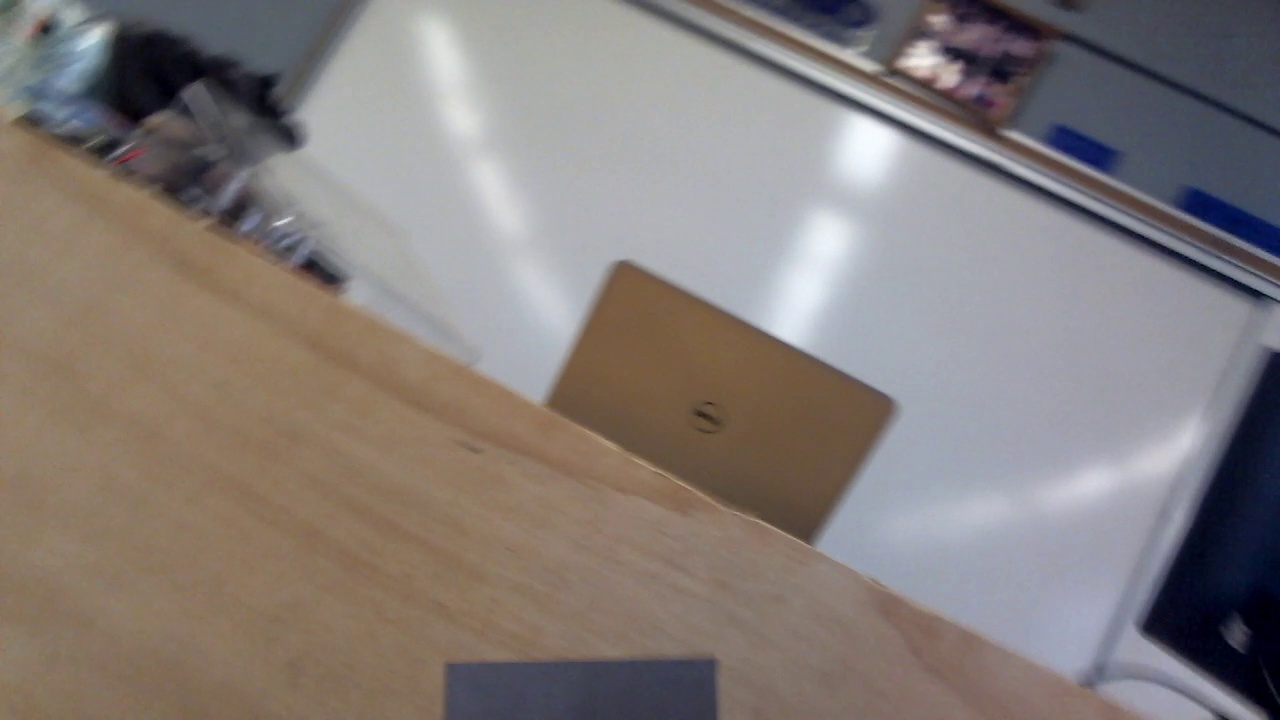Tape: (444, 663, 720, 720)
